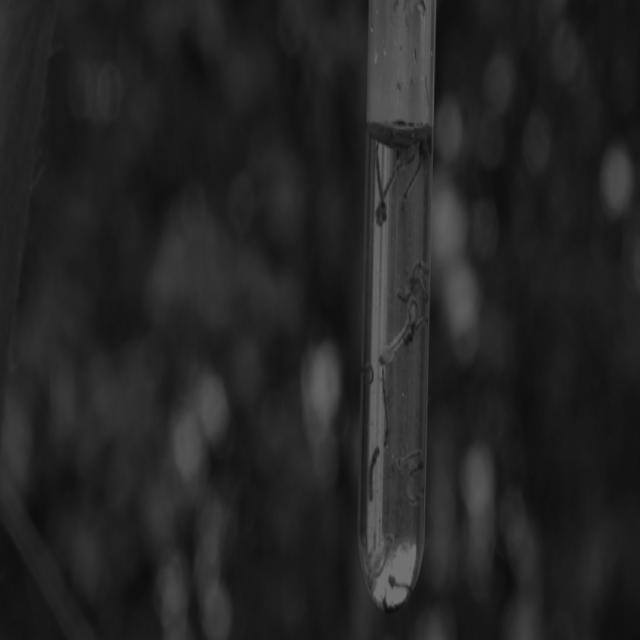larvas: (377, 310, 414, 372), (398, 149, 427, 215), (366, 536, 394, 580), (376, 147, 388, 225), (405, 312, 428, 349), (405, 464, 422, 510), (367, 443, 380, 502), (408, 258, 432, 289), (381, 372, 391, 445), (383, 154, 399, 199), (395, 446, 423, 469), (396, 288, 416, 313), (415, 273, 431, 304), (387, 576, 414, 591), (409, 303, 419, 331), (362, 366, 374, 387)
